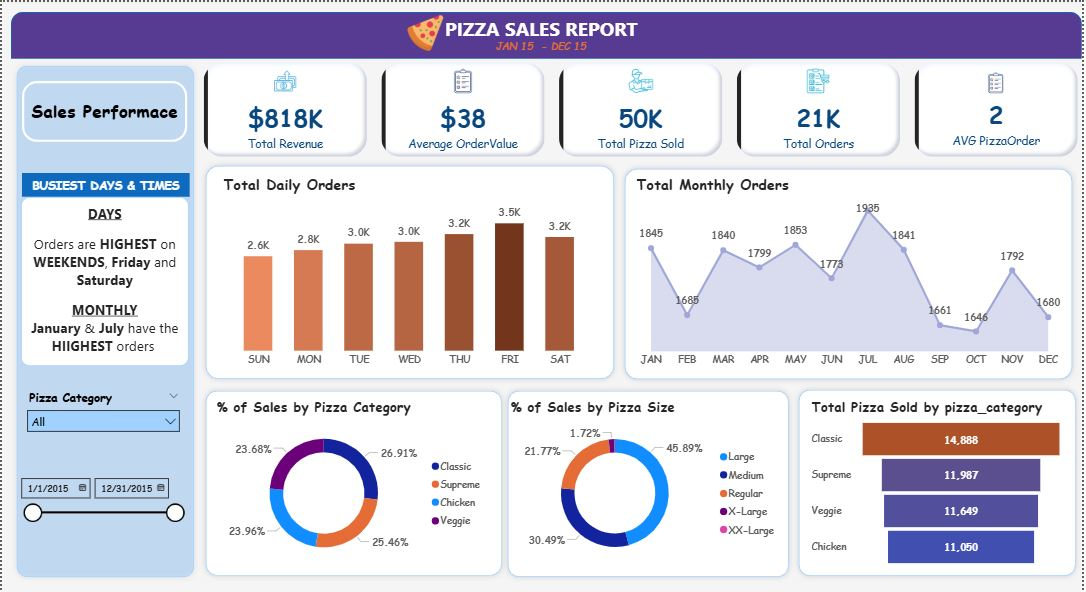

The dashboard page shown, as its layout file describes it:
{"tool":"powerbi","page":{"name":"Home","canvas":[1500,820],"ordinal":0},"visuals":[{"type":"cardVisual","fields":{"Data":["KPIs.Total Revenue","KPIs.Average OrderValue","KPIs.Total Pizza Sold","KPIs.Total Orders","KPIs.AVG PizzaOrder"]},"box":[274.8,79,1225.2,141.2],"z":0},{"type":"shape","box":[12.4,13.9,1488.4,65],"z":1000},{"type":"textbox","box":[601.8,13.9,295.5,57.2],"z":2000},{"type":"textbox","box":[661.9,46.7,174.5,29.4],"z":3000},{"type":"image","box":[557,10.8,61.9,65],"z":4000},{"type":"shape","box":[274.8,220.2,583.4,312.4],"z":5000},{"type":"columnChart","title":"Total Daily Orders","fields":{"Category":["pizza_sales.Order_Day"],"Y":["KPIs.Total Orders"]},"box":[303,239,527,278.5],"z":6000},{"type":"shape","box":[858.2,224,638,308.7],"z":7000},{"type":"areaChart","title":"Total Monthly Orders ","fields":{"Y":["KPIs.Total Orders"],"Category":["pizza_sales.Order_Month"]},"box":[877,239,602.3,278.5],"z":8000},{"type":"shape","box":[274.8,532.6,427.2,272.9],"z":9000},{"type":"shape","box":[1099.1,530.7,400.9,274.8],"z":10000},{"type":"shape","box":[694.5,532.6,406.5,274.8],"z":11000},{"type":"donutChart","title":"% of Sales by Pizza Category","fields":{"Category":["pizza_sales.pizza_category"],"Y":["KPIs.Total Revenue"]},"box":[293.6,549.6,385.8,240.9],"z":12000},{"type":"shape","box":[12.1,81.1,262.4,726.8],"z":13000},{"type":"donutChart","title":"% of Sales by Pizza Size","fields":{"Category":["pizza_sales.pizza_size"],"Y":["KPIs.Total Revenue"]},"box":[702,549.6,385.8,240.9],"z":14000},{"type":"funnel","fields":{"Category":["pizza_sales.pizza_category"],"Y":["KPIs.Total Pizza Sold"]},"box":[1119.8,549.6,359.5,240.9],"z":15000},{"type":"textbox","box":[27.6,238.2,233.1,32.8],"z":16000},{"type":"textbox","box":[25.9,271,233.1,234.8],"z":17000},{"type":"slicer","fields":{"Values":["pizza_sales.pizza_category"]},"box":[24.6,532.7,232.4,92.6],"z":18000},{"type":"slicer","fields":{"Values":["pizza_sales.order_date"]},"box":[13.2,651.8,247.5,85],"z":19000},{"type":"actionButton","box":[27.6,110.5,229.6,84.6],"z":19001}]}

Visuals, with their boxes in screenshot pixels (x1, y1, x2, y2), scaled from the page's 1500x820 canvas onto the 1086x592 screenshot:
cardVisual - KPIs.Total Revenue x KPIs.Average OrderValue: (left=199, top=57, right=1085, bottom=159)
shape: (left=9, top=10, right=1085, bottom=57)
textbox: (left=436, top=10, right=650, bottom=51)
textbox: (left=479, top=34, right=606, bottom=55)
image: (left=403, top=8, right=448, bottom=55)
shape: (left=199, top=159, right=621, bottom=385)
"Total Daily Orders" columnChart: (left=219, top=173, right=601, bottom=374)
shape: (left=621, top=162, right=1083, bottom=385)
"Total Monthly Orders " areaChart: (left=635, top=173, right=1071, bottom=374)
shape: (left=199, top=385, right=508, bottom=582)
shape: (left=796, top=383, right=1085, bottom=582)
shape: (left=503, top=385, right=797, bottom=583)
"% of Sales by Pizza Category" donutChart: (left=213, top=397, right=492, bottom=571)
shape: (left=9, top=59, right=199, bottom=583)
"% of Sales by Pizza Size" donutChart: (left=508, top=397, right=788, bottom=571)
funnel - pizza_sales.pizza_category x KPIs.Total Pizza Sold: (left=811, top=397, right=1071, bottom=571)
textbox: (left=20, top=172, right=189, bottom=196)
textbox: (left=19, top=196, right=188, bottom=365)
slicer - pizza_sales.pizza_category: (left=18, top=385, right=186, bottom=451)
slicer - pizza_sales.order_date: (left=10, top=471, right=189, bottom=532)
actionButton: (left=20, top=80, right=186, bottom=141)
